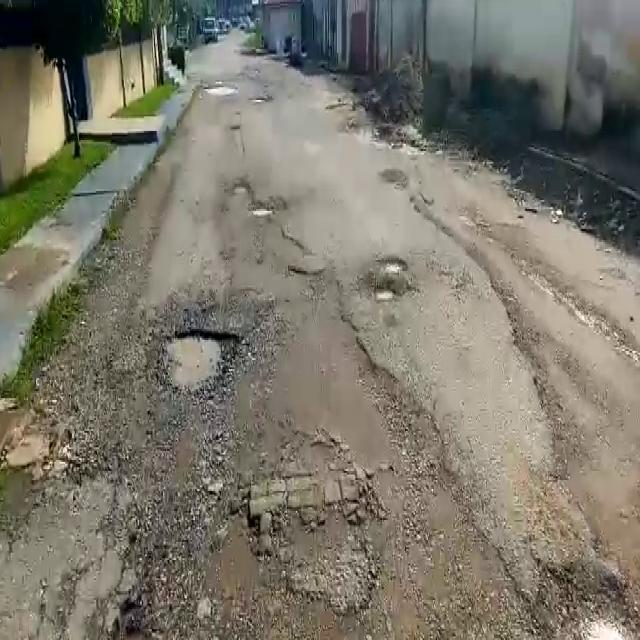pothole: (159, 331, 239, 394), (376, 258, 408, 276), (374, 286, 395, 303), (231, 183, 250, 198), (250, 208, 276, 218)
